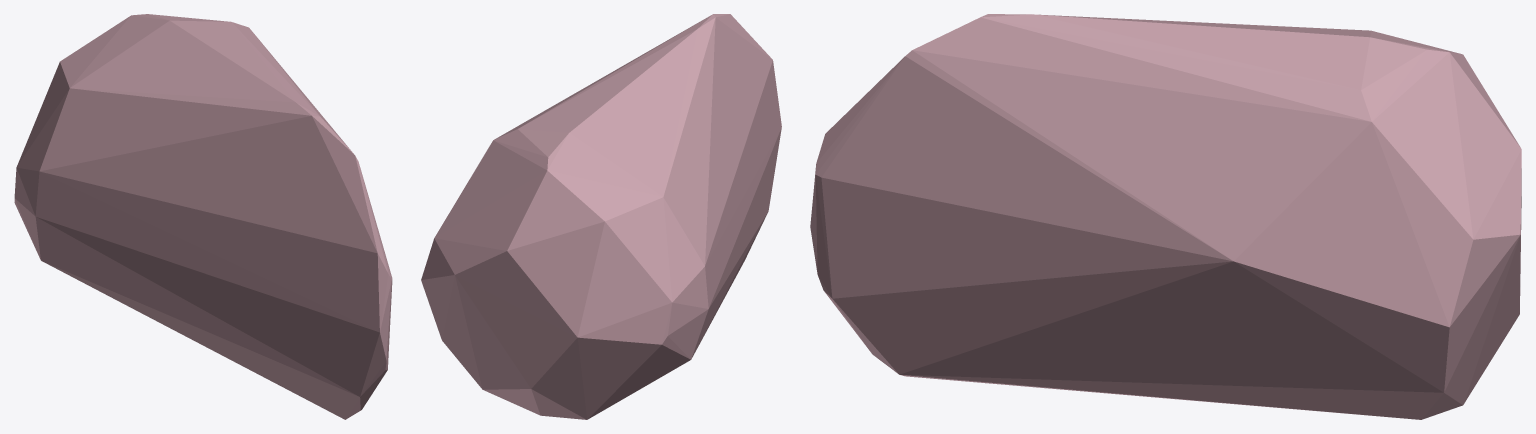
Rendered from kitchenware_kettle_s01.glb.
3 renders of one model, left to right at view 1: azimuth 30°, elevation 25°; view 2: azimuth 150°, elevation 25°; view 3: azimuth 270°, elevation 25°, orthographic. The views are drawn at different scales.
Visible parts, largest first — view 1: geometry_0; view 2: geometry_0; view 3: geometry_0.
Boxes of the visible parts, x1,y1,x2,y2 form: geometry_0: (14, 14, 392, 419); geometry_0: (421, 14, 781, 419); geometry_0: (810, 14, 1521, 419).
Bounding box in the file's own units: 0.2667 × 0.2726 × 0.4784.
